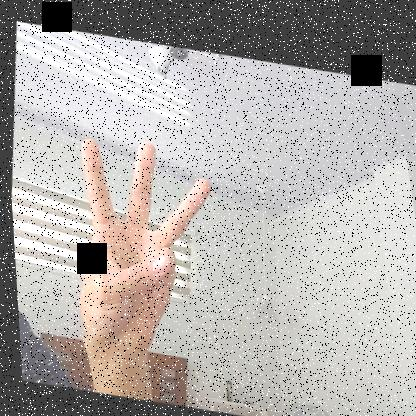W: (58, 127, 224, 365)
